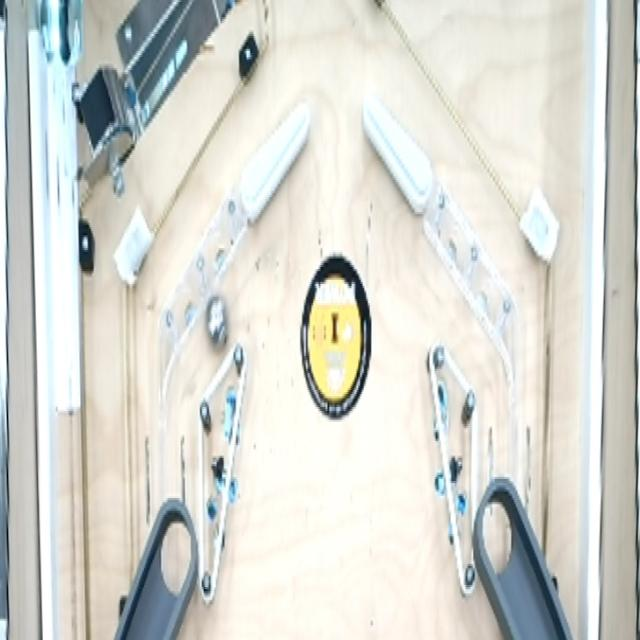ball: (202, 291, 232, 351)
flipper-left: (360, 88, 439, 239)
flipper-right: (240, 91, 313, 236)
